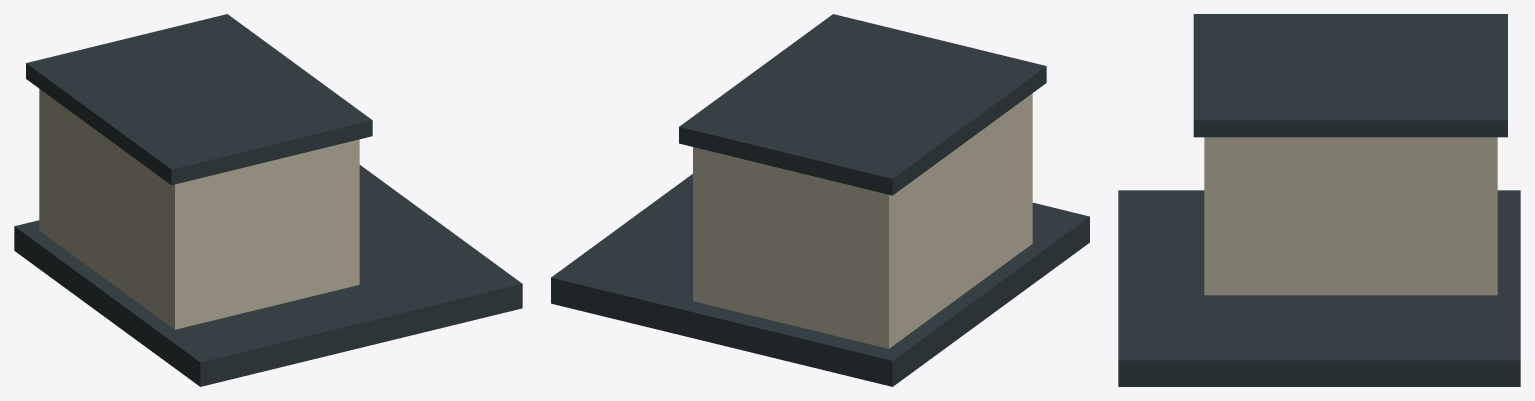
Rendered from storage-lod2.a8e0f3f8163b.glb.
The picture shows the model from 3 angles, left to right: view 1: azimuth 30°, elevation 25°; view 2: azimuth 150°, elevation 25°; view 3: azimuth 270°, elevation 25°; orthographic projection. The views are drawn at different scales.
Parts seen in each view (by area): view 1: body; view 2: body; view 3: body.
Part boxes in pixels (box(x1,y1,x2,y2)): body: box(14, 14, 522, 386); body: box(551, 14, 1089, 386); body: box(1118, 14, 1520, 386).
Bounding box in the file's own units: 3.84 × 2.17 × 3.84.
